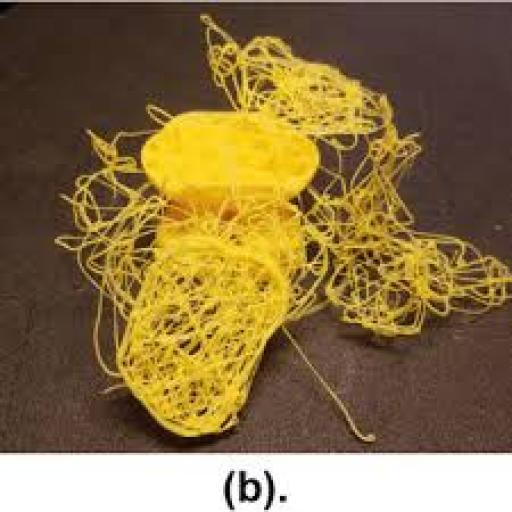spaghetti: (56, 2, 430, 374)
